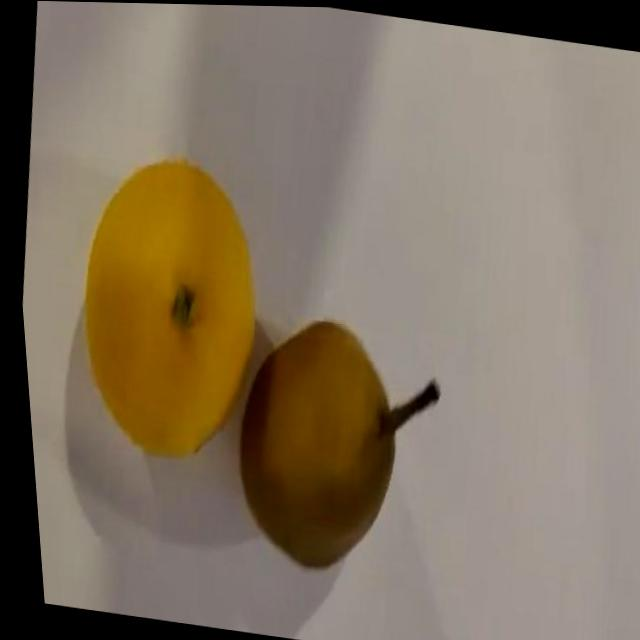Orange: (52, 143, 279, 469)
